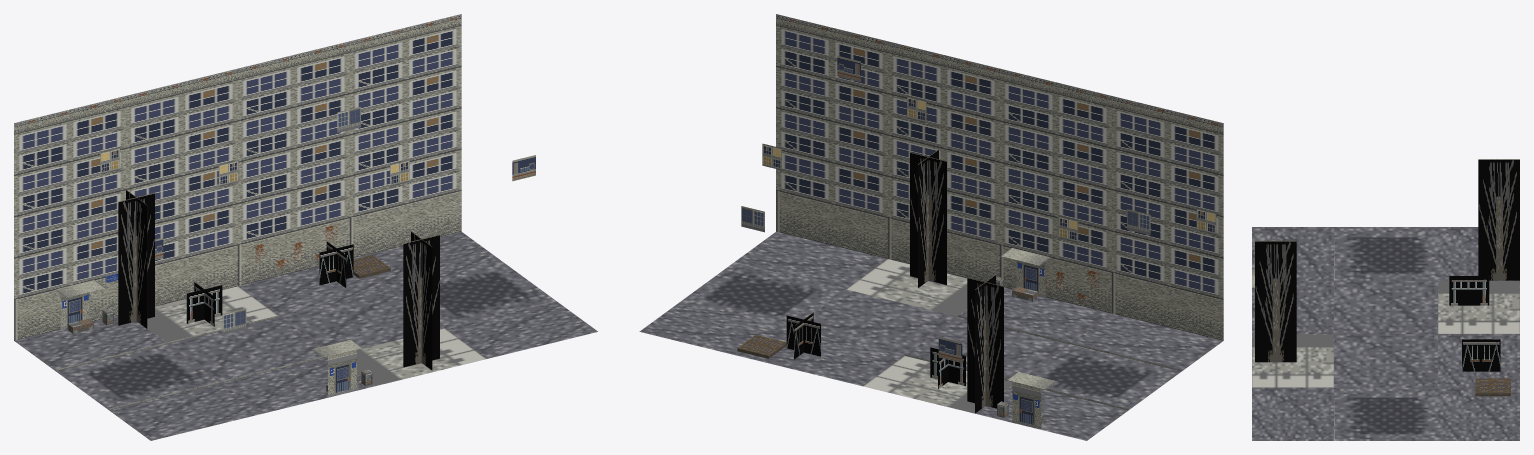
The model's file is street.glb.
3 views of the same model, side by side, from view 1: azimuth 30°, elevation 25°; view 2: azimuth 150°, elevation 25°; view 3: azimuth 270°, elevation 25° (orthographic). The views are drawn at different scales.
Parts seen in each view (by area): view 1: facade, ground, props; view 2: facade, ground, props; view 3: ground, props.
Boxes of the visible parts, <box> form: facade: <box>14,14,535,397</box>; ground: <box>14,231,597,440</box>; props: <box>67,190,439,391</box>; facade: <box>741,14,1223,429</box>; ground: <box>639,231,1223,440</box>; props: <box>786,149,1042,423</box>; ground: <box>1252,227,1519,440</box>; props: <box>1255,159,1519,371</box>.
Bounding box in the file's own units: 35 × 15.8 × 18.
Materials: 3 (3 with a texture image).
